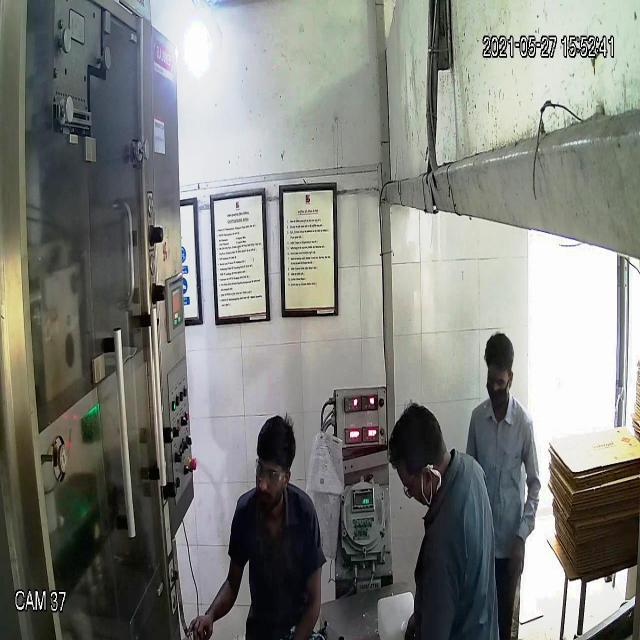glasses: (252, 456, 292, 487)
no-glass: (483, 367, 511, 389)
